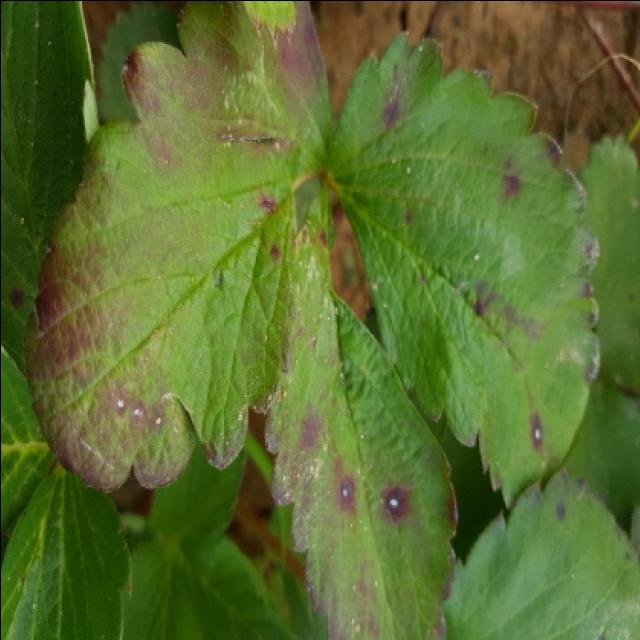Leaf Spot: (23, 2, 333, 494), (325, 33, 601, 514), (261, 284, 457, 640), (441, 466, 640, 640)
